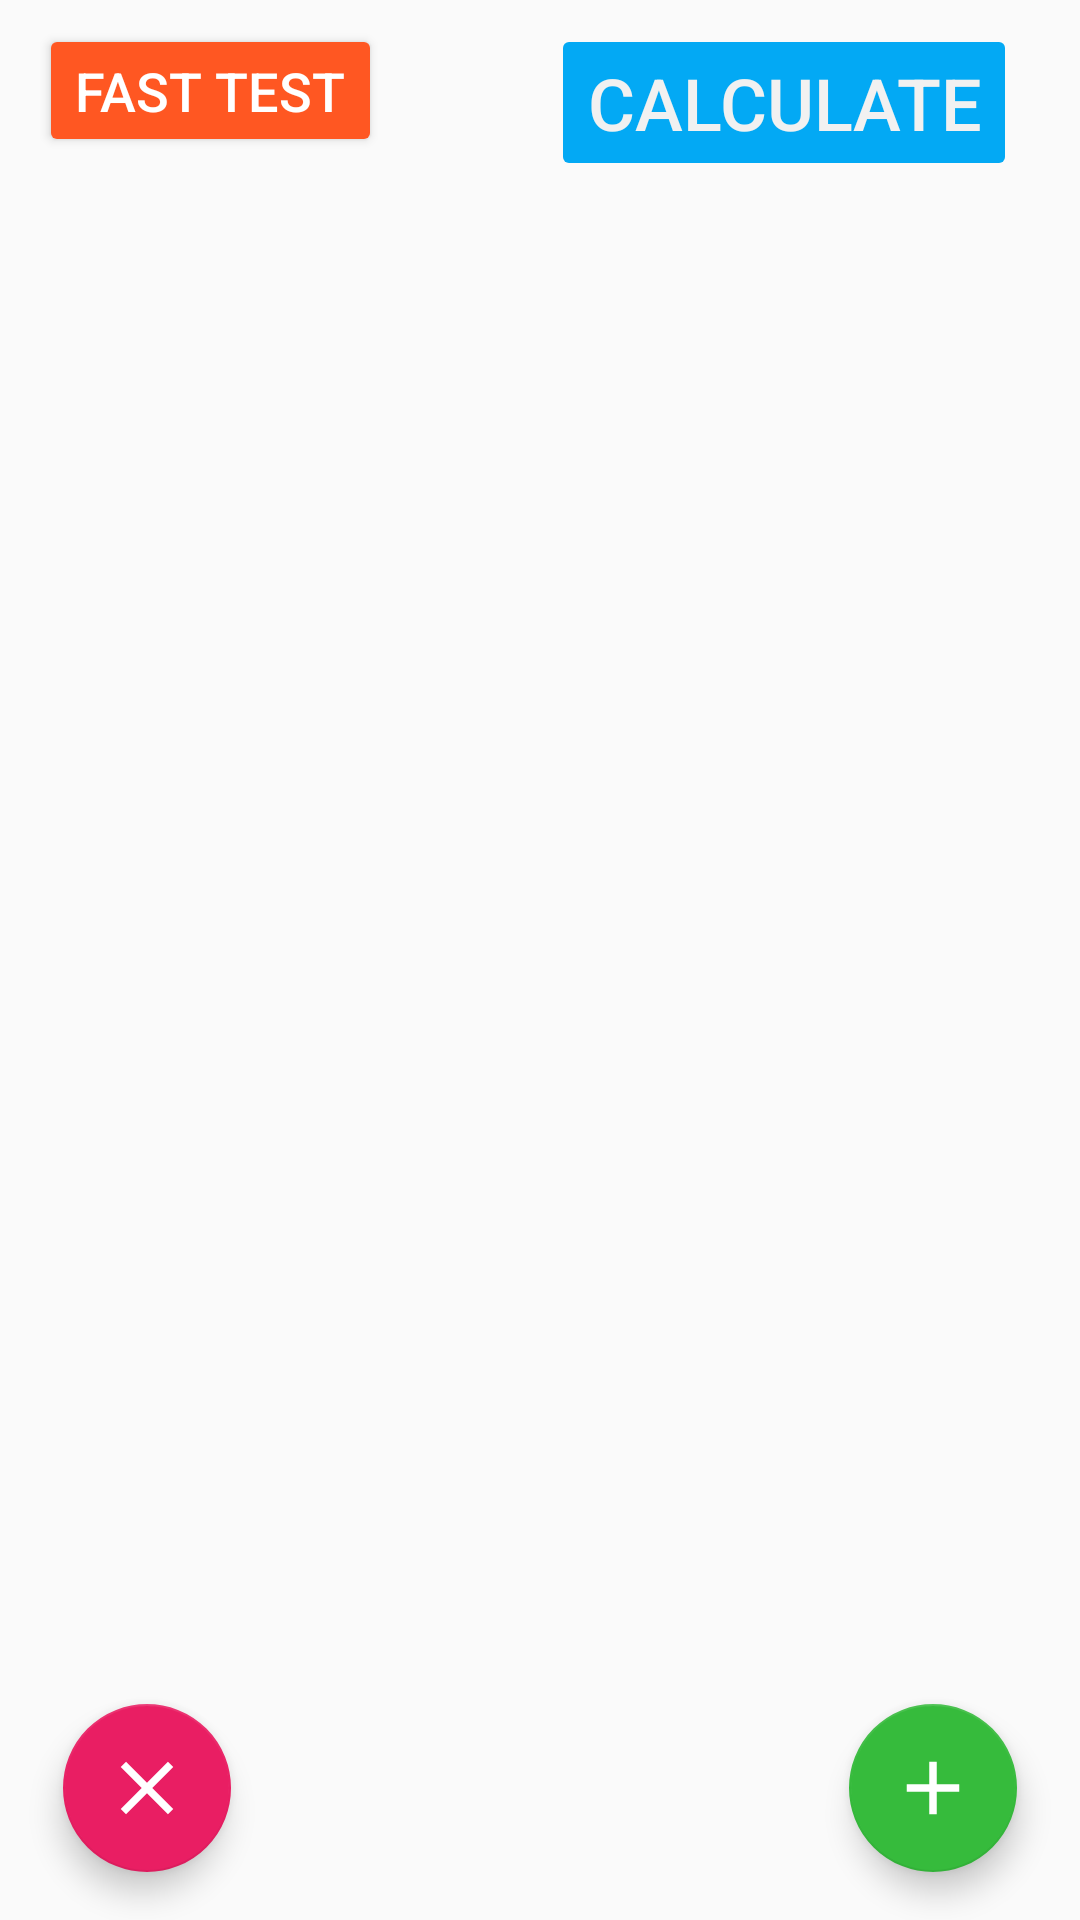

Locate icon controls on the screen. Image size 1080x1920, boxes as bbox=[x1, y1, x2, y2].
add row: bbox=[849, 1704, 1017, 1872]
remove row: bbox=[63, 1704, 231, 1872]
